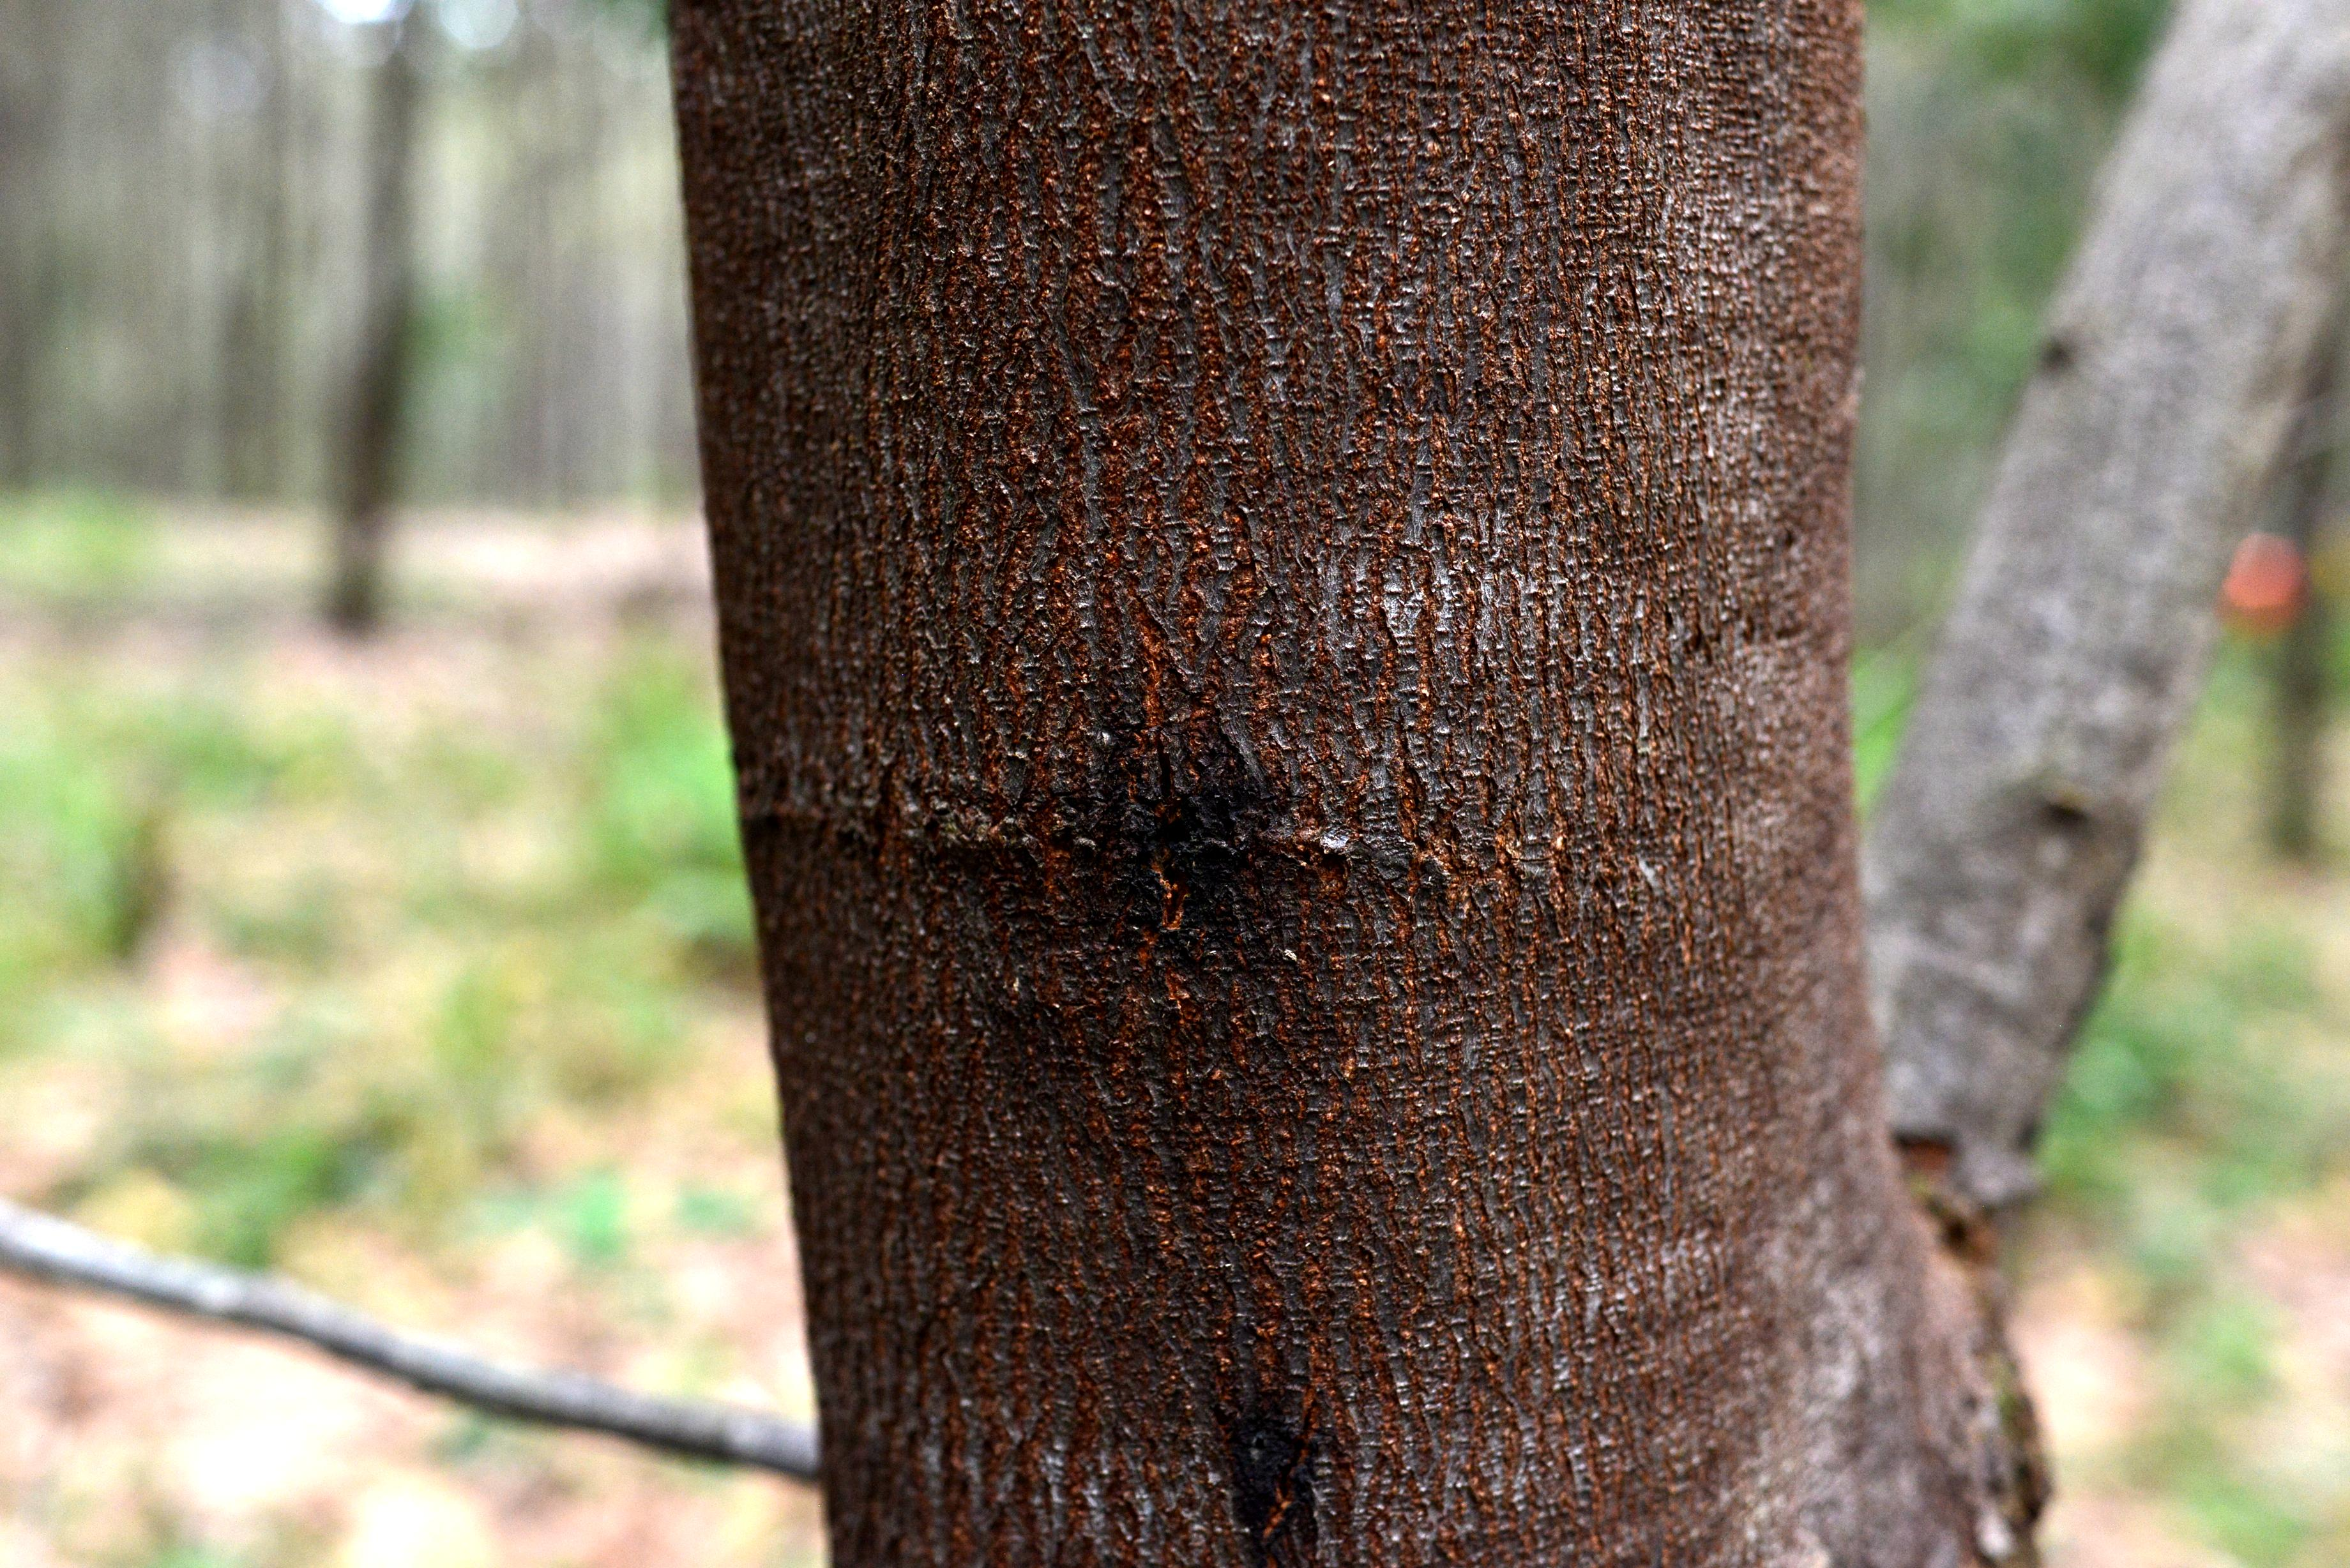Stem Borer: (1017, 674, 1332, 1003), (1080, 1305, 1398, 1568)
